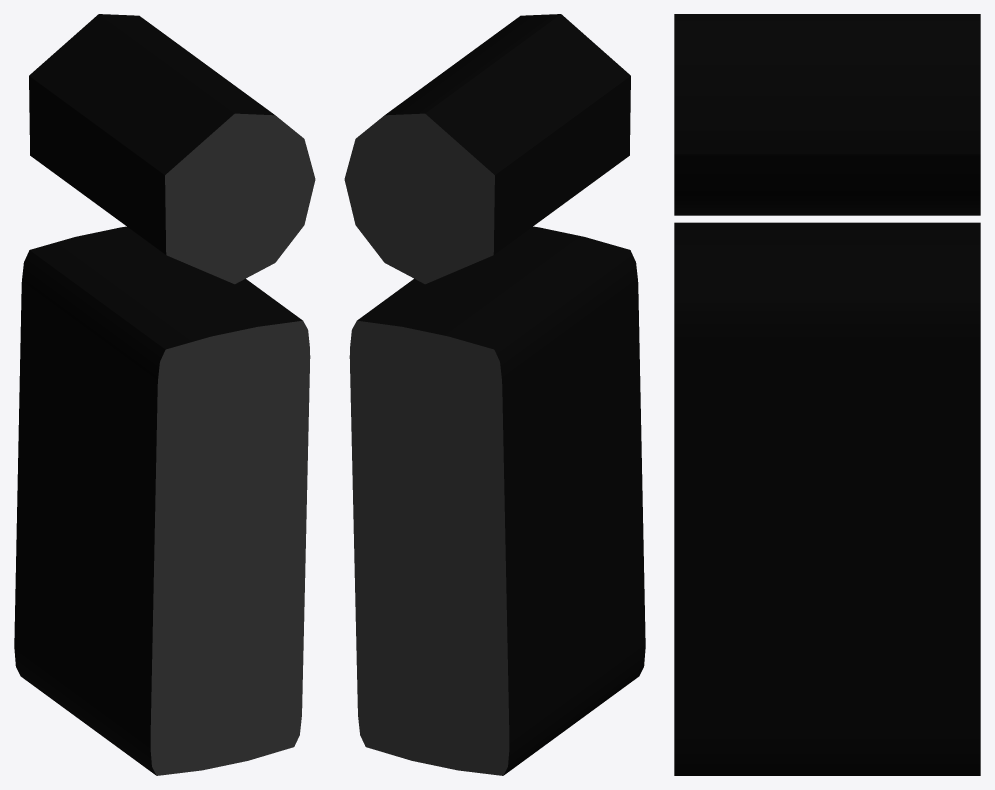
3 renders of one model, left to right at view 1: azimuth 30°, elevation 25°; view 2: azimuth 150°, elevation 25°; view 3: azimuth 270°, elevation 25°, orthographic. The views are drawn at different scales.
Parts seen in each view (by area): view 1: i_Zyzol_Black; view 2: i_Zyzol_Black; view 3: i_Zyzol_Black.
Boxes of the visible parts, x1,y1,x2,y2 form: i_Zyzol_Black: (14, 14, 315, 775); i_Zyzol_Black: (344, 14, 645, 775); i_Zyzol_Black: (674, 14, 980, 775).
Size of what is drawn, in the model's own units: 0.0315 by 0.1187 by 0.045.
2 materials, 2 textured.
